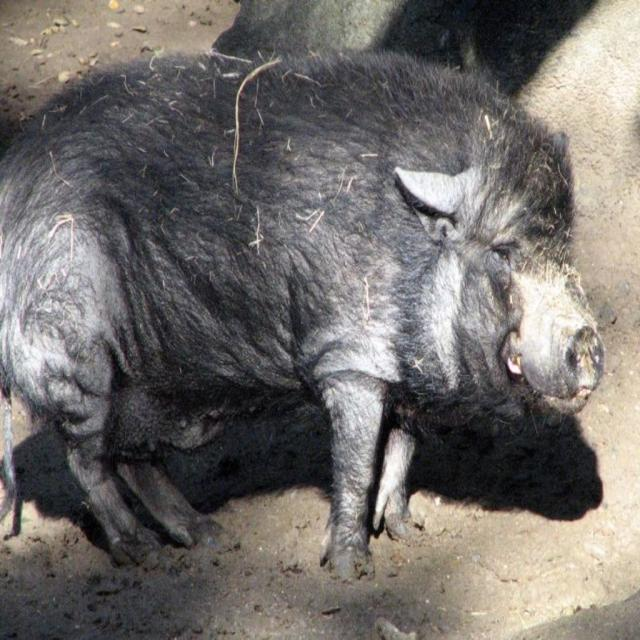Pig: (0, 43, 603, 587)
